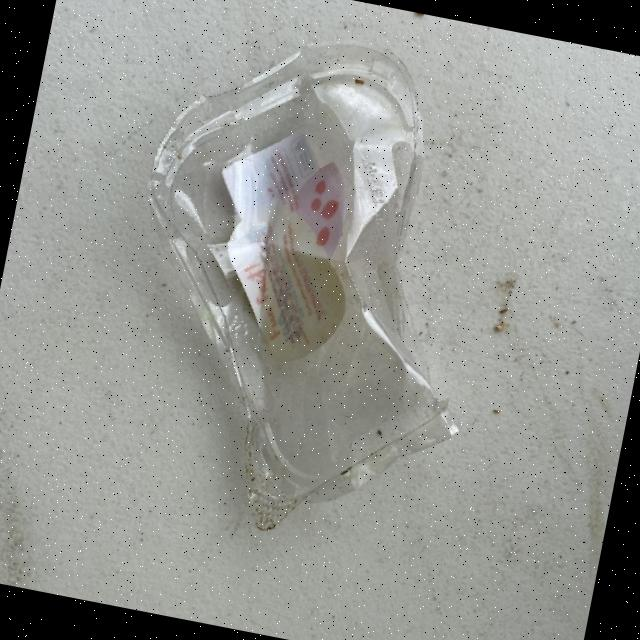plastic: (86, 6, 528, 564)
